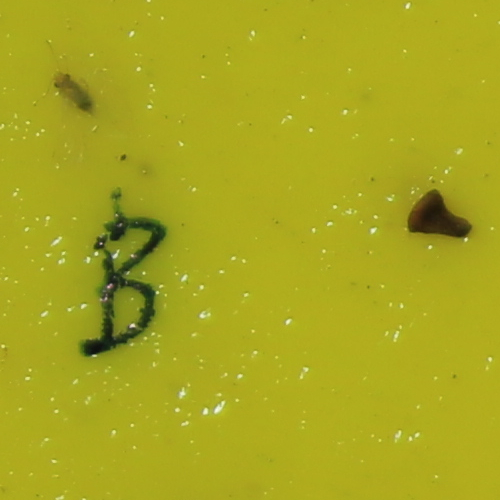Glycaspis: (51, 70, 95, 113)
